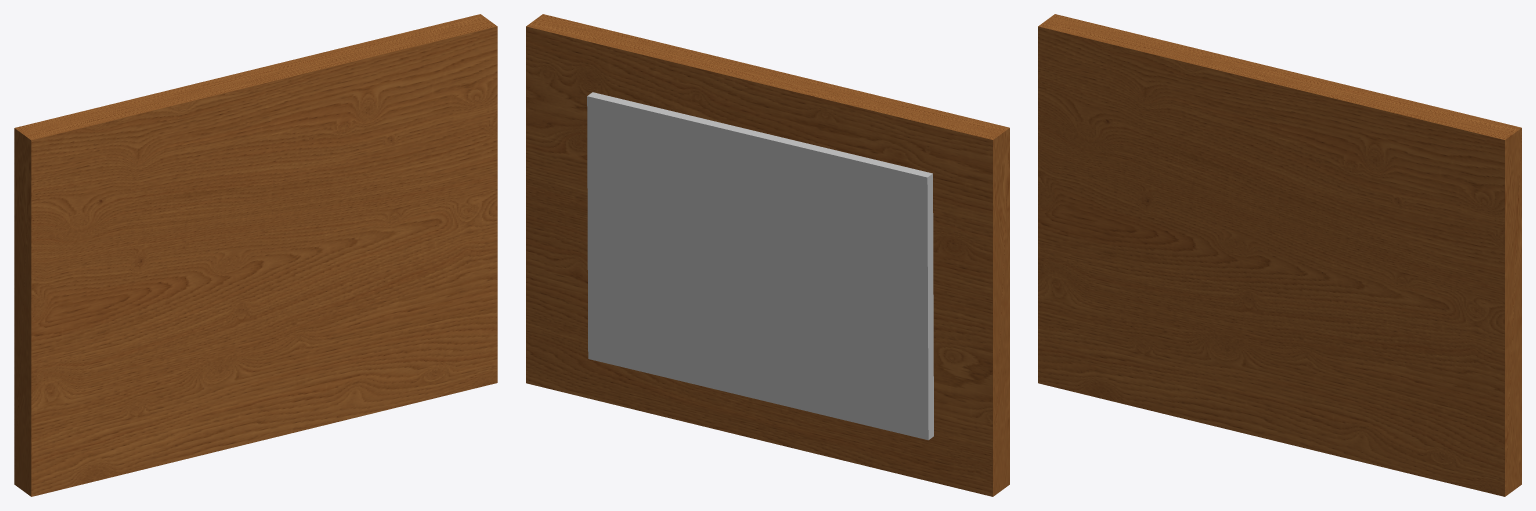
File: wall_turing.fbx
The picture shows the model from 3 angles, left to right: view 1: azimuth 30°, elevation 25°; view 2: azimuth 150°, elevation 25°; view 3: azimuth 330°, elevation 25°; orthographic projection.
Visible parts, largest first — view 1: PictureFrame2; view 2: pCube23, PictureFrame2; view 3: PictureFrame2.
Boxes of the visible parts, left/top/right/bottom form: PictureFrame2: left=14, top=14, right=497, bottom=496; pCube23: left=587, top=92, right=933, bottom=440; PictureFrame2: left=526, top=14, right=1009, bottom=496; PictureFrame2: left=1038, top=14, right=1521, bottom=496.
Bounding box in the file's own units: 784 × 573 × 66.18.
